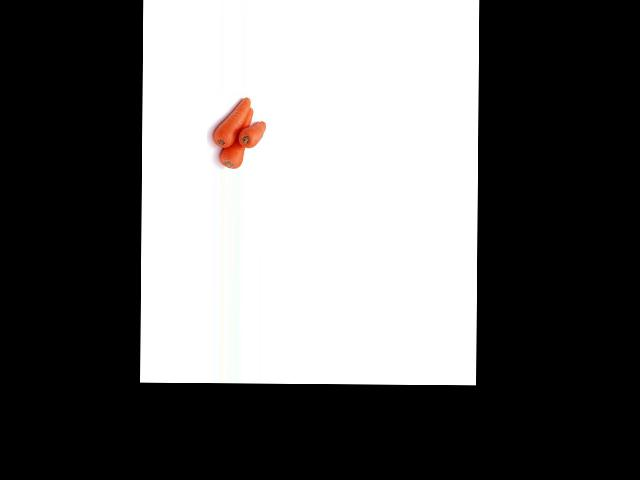carrot: (217, 106, 252, 168)
